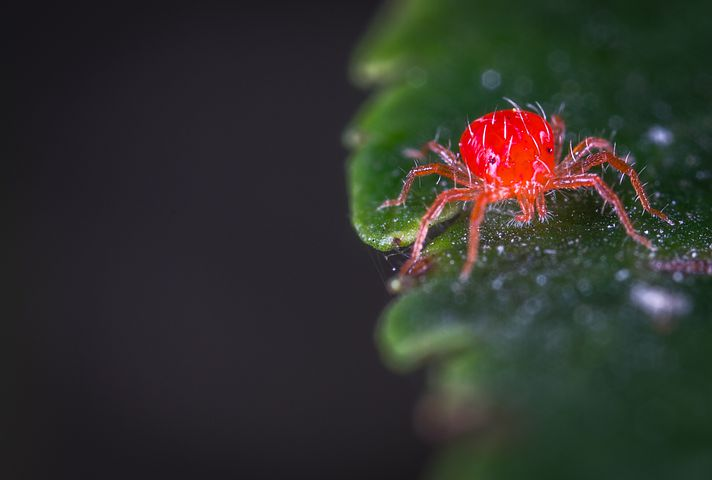Mites: (354, 76, 669, 282)
